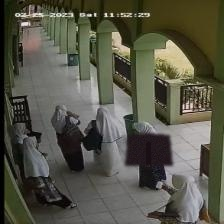Cadar_Niqab: (125, 117, 172, 165)
